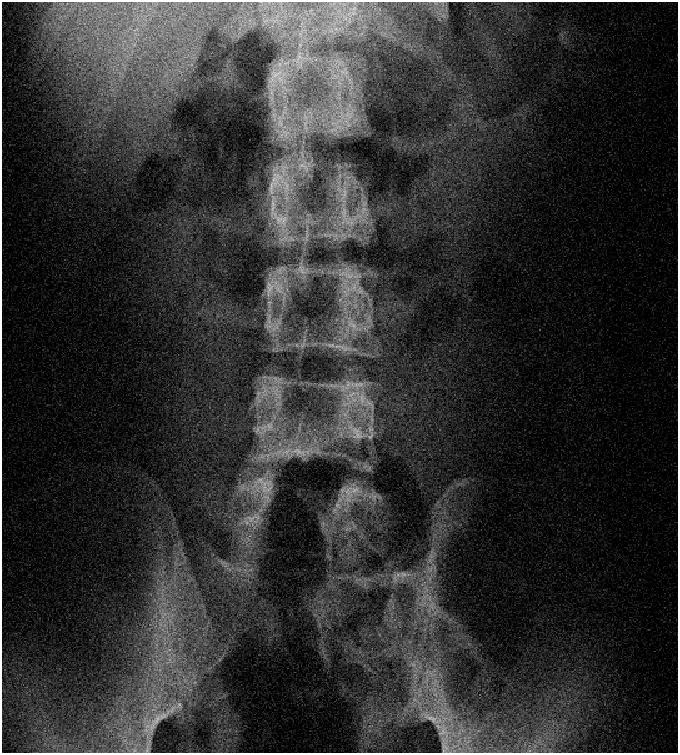lumbar scoliosis: (225, 187, 387, 541)
